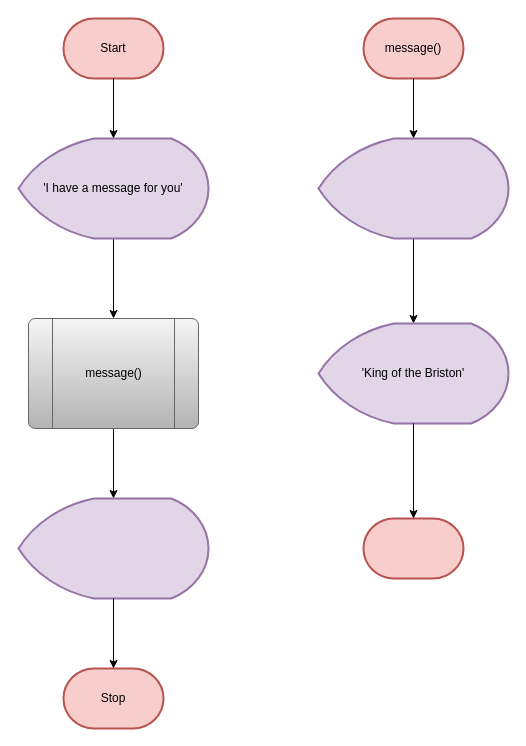
Some shapes in this 526 by 746 pixel diagram are drawn without their labels. The centre of each missing label's shape, as x and y in pixels:
'Goodbye!': pixel 113 548
'I am Arthur': pixel 413 188
Return: pixel 413 548
